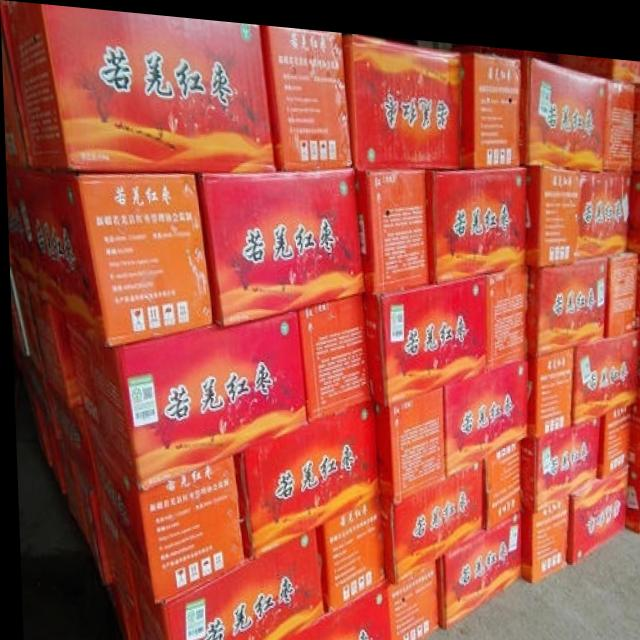box: (0, 2, 276, 169), (85, 305, 305, 489), (20, 168, 212, 345), (81, 406, 242, 602), (193, 160, 365, 322), (99, 521, 322, 640), (230, 394, 380, 555), (342, 26, 461, 163), (365, 265, 484, 399), (260, 20, 353, 164), (378, 450, 481, 576), (427, 156, 524, 276), (430, 501, 520, 623), (294, 285, 370, 420), (519, 45, 607, 161), (441, 351, 525, 469), (352, 160, 428, 287), (370, 379, 443, 500), (525, 243, 606, 350), (313, 492, 383, 608), (518, 406, 597, 503), (58, 440, 110, 581), (459, 44, 520, 159), (276, 579, 387, 640), (569, 319, 639, 414), (565, 451, 626, 555), (95, 494, 140, 634), (29, 288, 81, 409), (44, 375, 96, 496), (523, 156, 579, 257), (573, 158, 632, 253), (482, 253, 527, 365), (62, 315, 102, 437), (10, 341, 58, 440), (382, 552, 436, 640), (5, 166, 39, 299), (0, 3, 27, 169), (524, 336, 572, 427), (520, 486, 567, 571), (479, 431, 520, 522), (10, 265, 43, 374), (31, 392, 63, 492), (602, 240, 637, 328), (594, 390, 631, 471), (604, 68, 636, 160), (561, 44, 640, 71), (9, 263, 26, 354), (31, 392, 48, 467), (622, 453, 640, 523), (626, 160, 640, 242), (629, 390, 640, 457), (632, 71, 640, 160), (634, 242, 640, 322), (635, 323, 640, 393)
